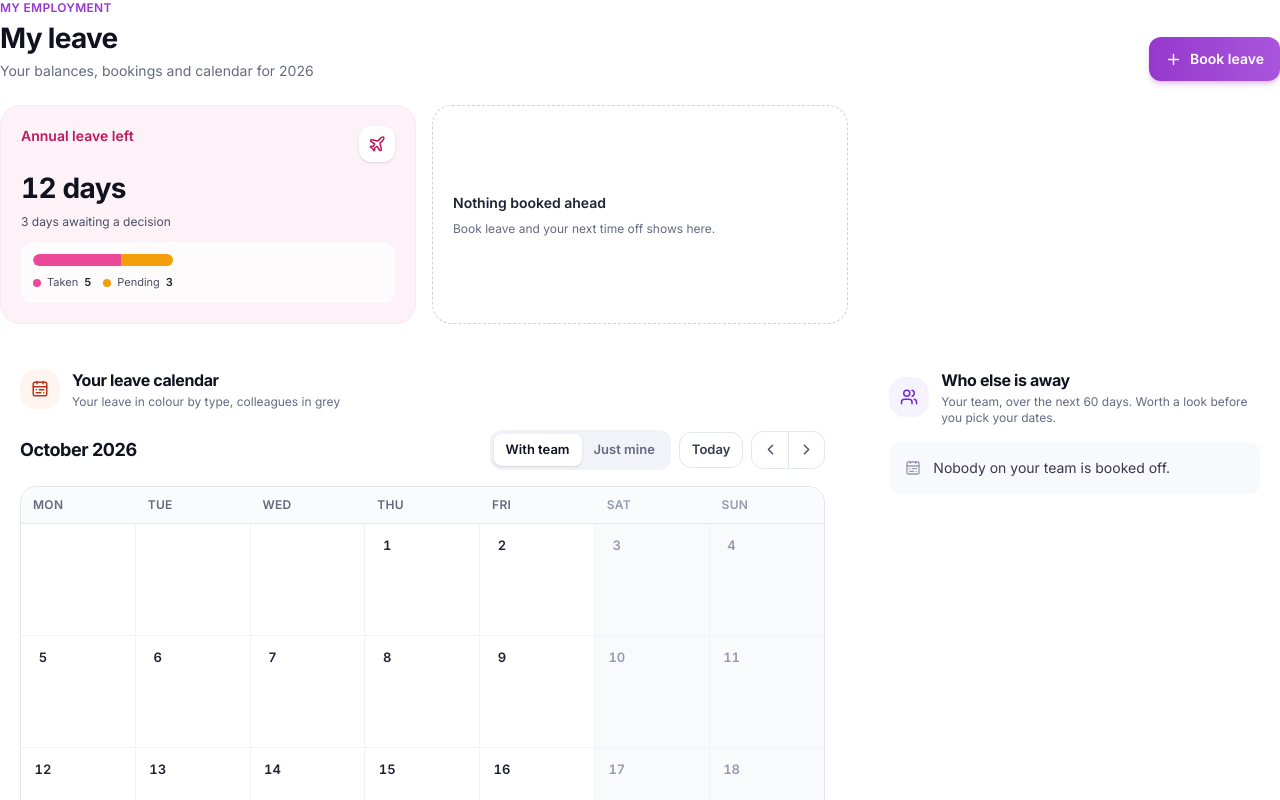
Test: MyLeave › booking › warns when the team is already thin that day
The width and height of the screenshot is (1280, 800).
Click the button "Book leave" at (1215, 59), box 1149,37 -> 1279,81
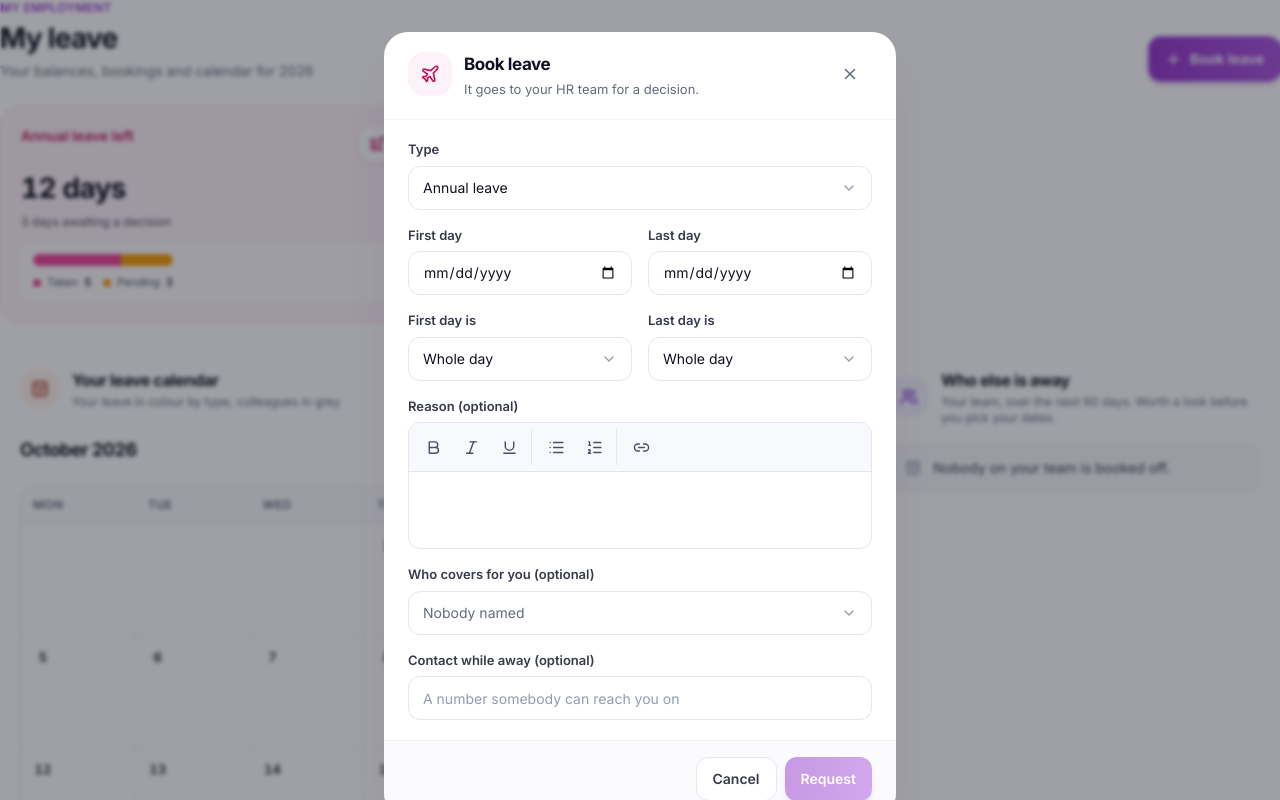
Expected: the dialog "Book leave" is shown, 384,32 -> 896,799
Type "2026-09-28" into the date field labelled "First day" at (520, 273), box 408,251 -> 632,295
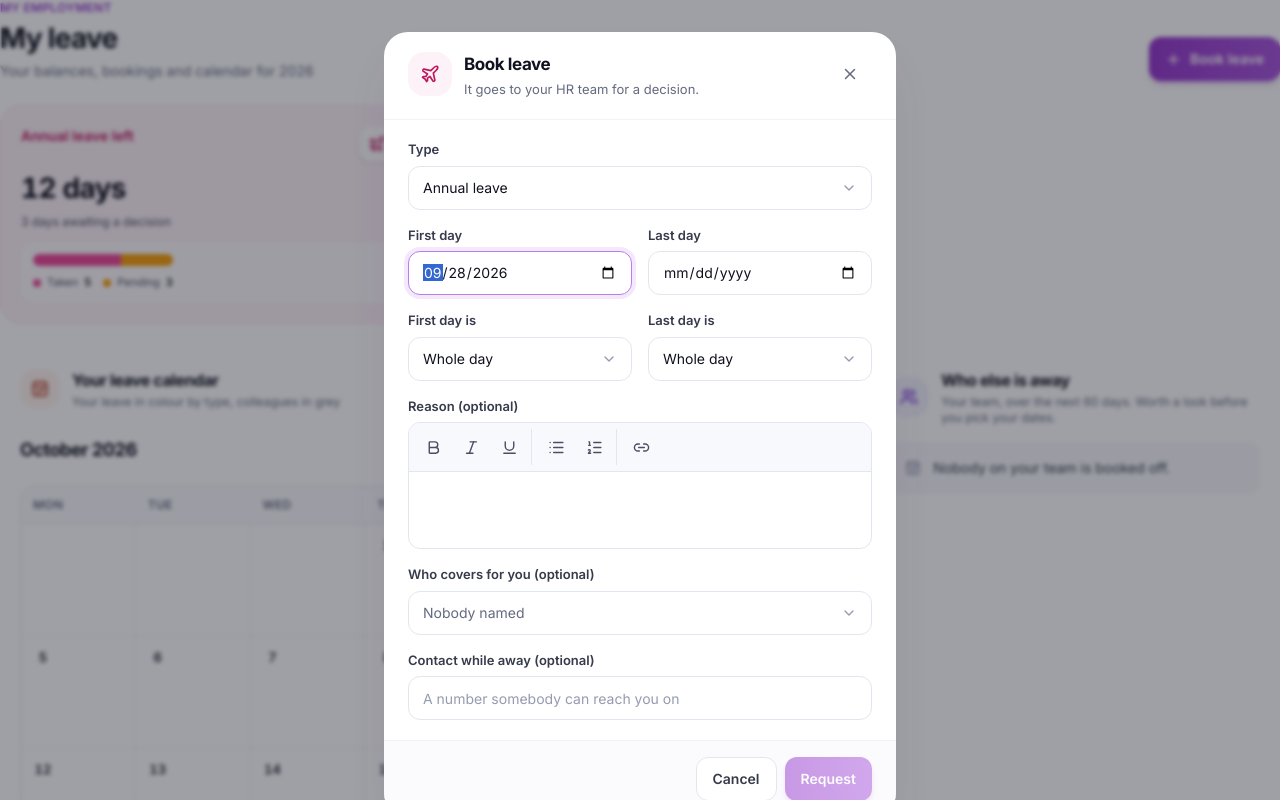
Type "2026-10-04" into the date field labelled "Last day" at (760, 273), box 648,251 -> 872,295
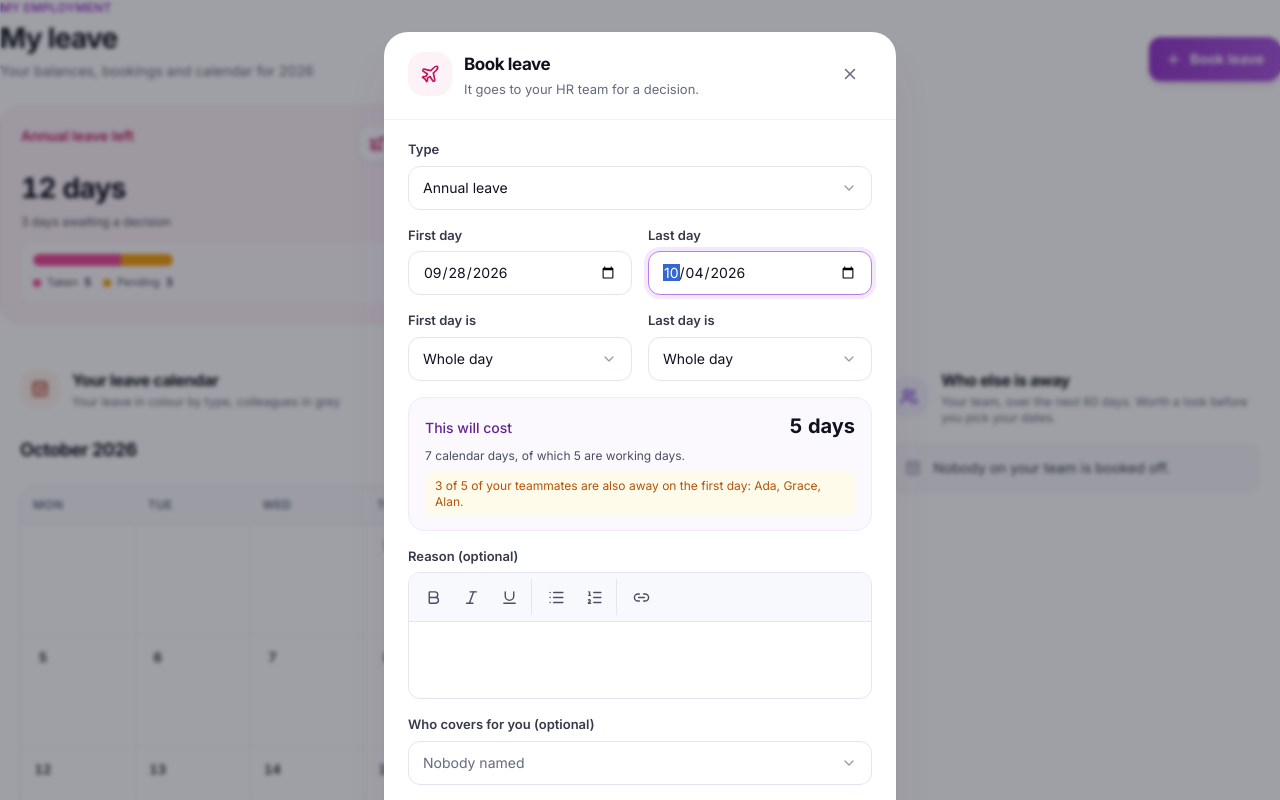
Expected: the text "3 of 5 of your teammates are also away" shows "Ada, Grace, Alan", 435,478 -> 821,508
